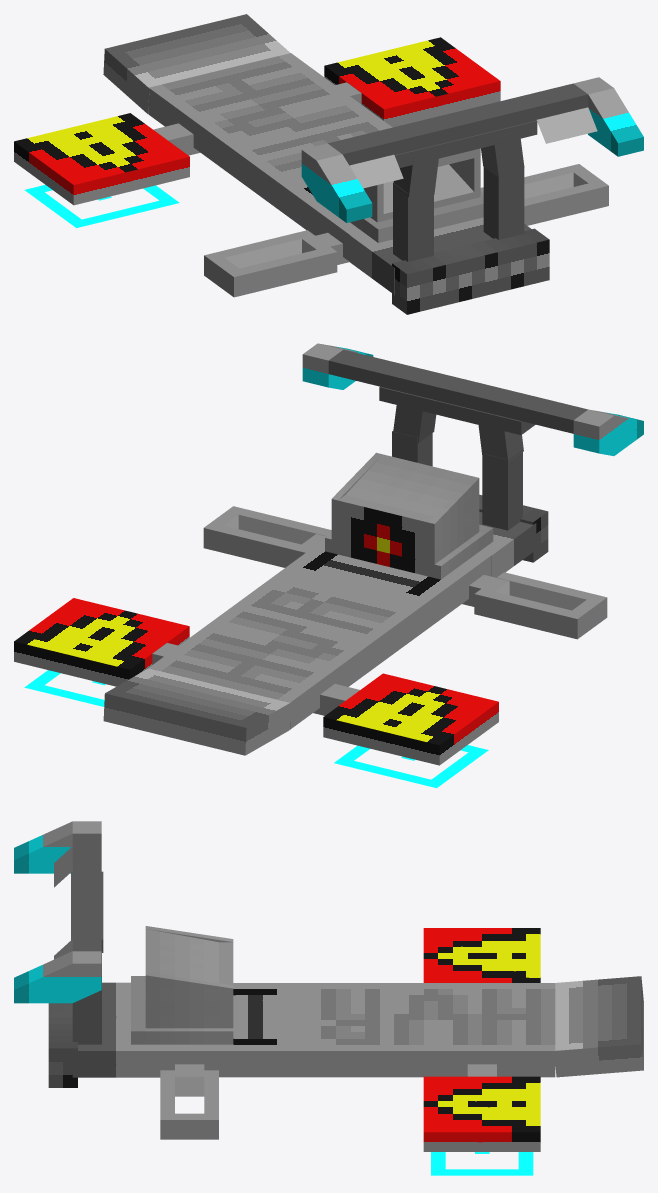
The model's file is hoverboard.glb.
The picture shows the model from 3 angles, top to bottom: view 1: azimuth 30°, elevation 25°; view 2: azimuth 150°, elevation 25°; view 3: azimuth 270°, elevation 25°; orthographic projection. The views are drawn at different scales.
Visible parts, largest first — view 1: Object_101; view 2: Object_101; view 3: Object_101.
Boxes of the visible parts, <box> form: Object_101: <box>14,14,643,314</box>; Object_101: <box>14,343,643,788</box>; Object_101: <box>14,821,643,1175</box>.
Bounding box in the file's own units: 0.8276 × 0.3473 × 1.08.
2 materials, 2 textured.
